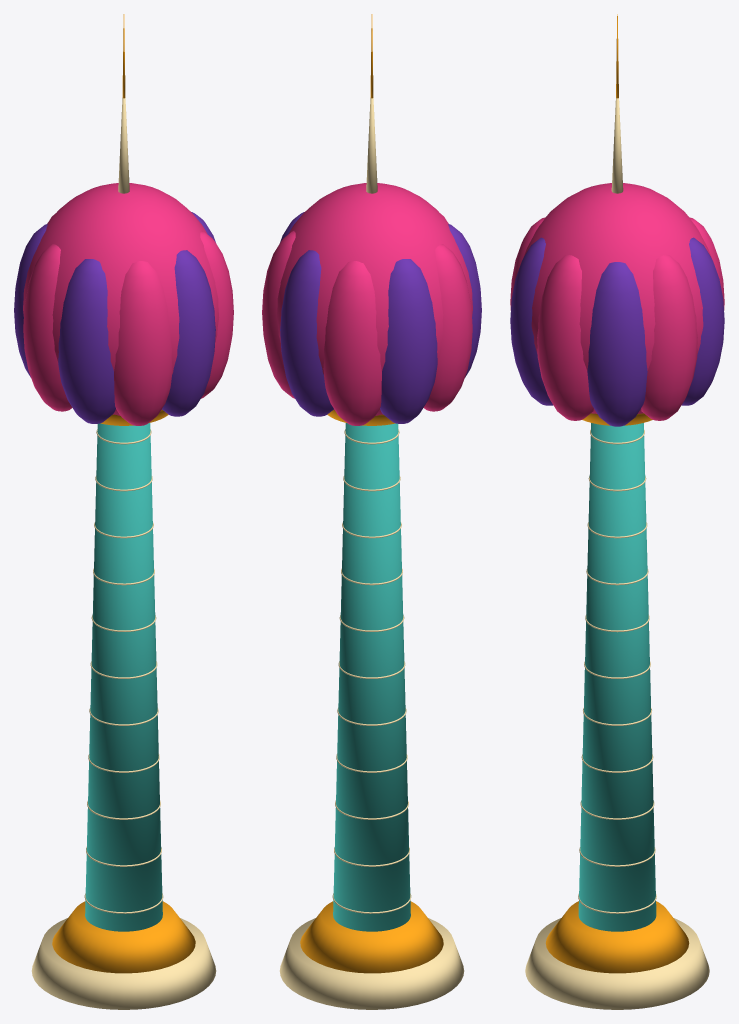
File: lotus_tower.glb
3 views of the same model, side by side, from view 1: azimuth 30°, elevation 25°; view 2: azimuth 150°, elevation 25°; view 3: azimuth 270°, elevation 25° (orthographic).
Visible parts, largest first — view 1: LotusTower; view 2: LotusTower; view 3: LotusTower.
Part boxes in pixels (x1,y1,x2,y2): LotusTower: [14, 14, 233, 1009]; LotusTower: [262, 14, 481, 1009]; LotusTower: [510, 14, 724, 1009].
Size of the model in its own units: 21.6 by 103 by 20.91.
